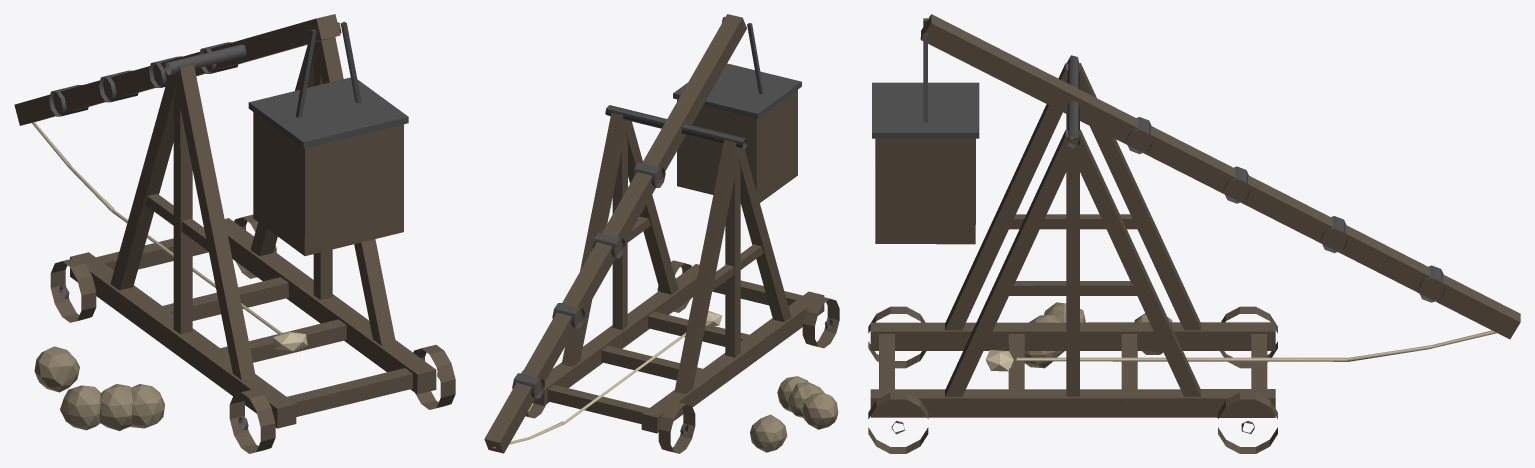
File: trebuchet-lod1.glb
3 views of the same model, side by side, from view 1: azimuth 30°, elevation 25°; view 2: azimuth 150°, elevation 25°; view 3: azimuth 270°, elevation 25° (orthographic). The views are drawn at different scales.
Visible parts, largest first — view 1: trebuchet.001; view 2: trebuchet.001; view 3: trebuchet.001.
Boxes of the visible parts, x1=… form: trebuchet.001: x1=14, y1=14, x2=455, y2=453; trebuchet.001: x1=484, y1=14, x2=839, y2=453; trebuchet.001: x1=868, y1=14, x2=1520, y2=453.
Size of the model in its own units: 5.9 by 8.03 by 11.57.
